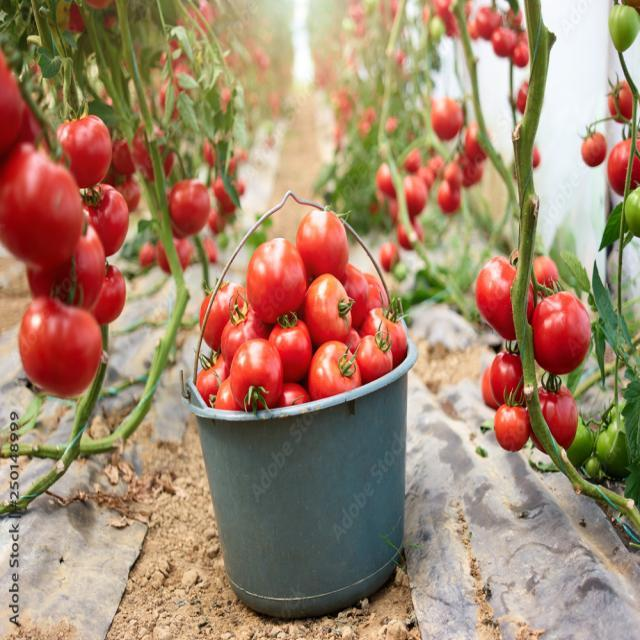kirmizi: (210, 204, 380, 374), (16, 138, 124, 314), (490, 270, 604, 388)
